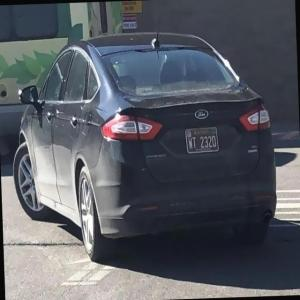Plate: (185, 126, 219, 154)
